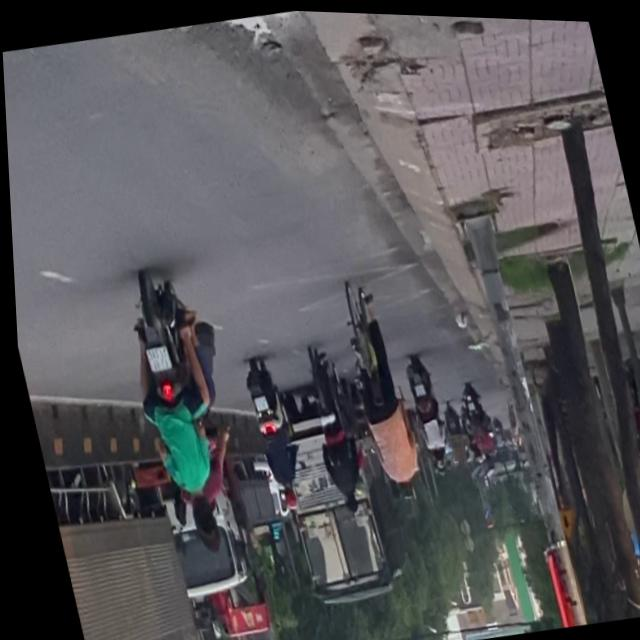licenseplate: (107, 262, 251, 562)
motorcyclist: (176, 471, 217, 536)
nohelmet: (141, 345, 168, 373)
